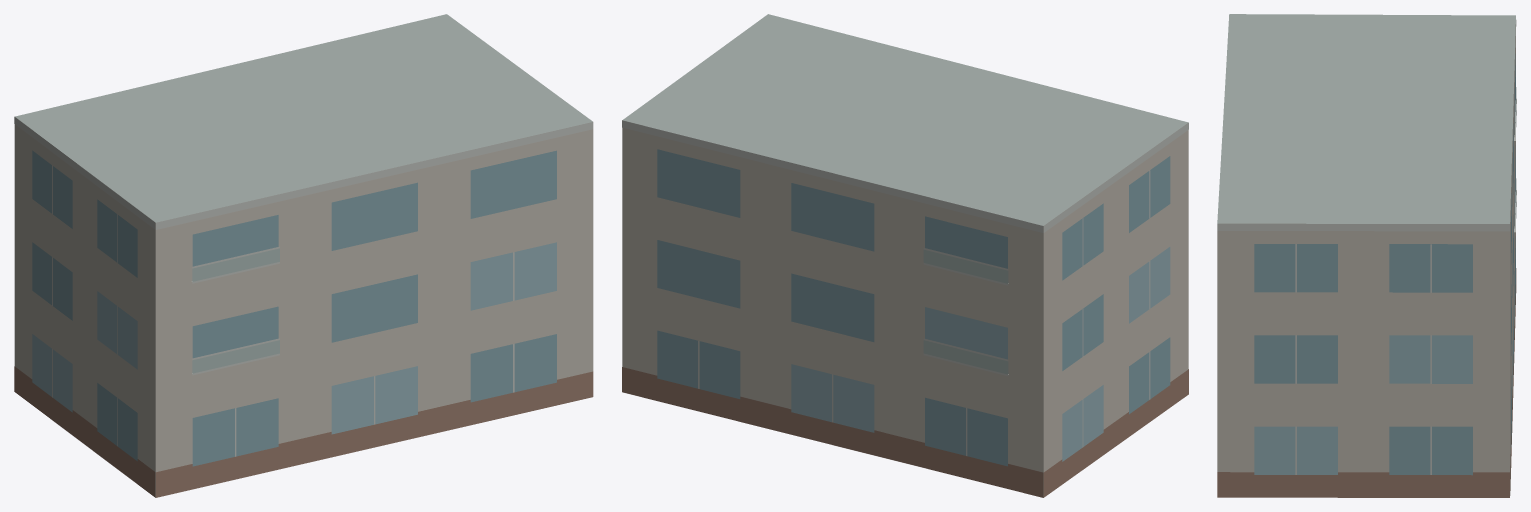
File: survey-upis-32970642.glb
3 renders of one model, left to right at view 1: azimuth 30°, elevation 25°; view 2: azimuth 150°, elevation 25°; view 3: azimuth 270°, elevation 25°, orthographic.
Visible parts, largest first — view 1: survey-upis-32970642.tmp; view 2: survey-upis-32970642.tmp; view 3: survey-upis-32970642.tmp.
Boxes of the visible parts, x1,y1,x2,y2 form: survey-upis-32970642.tmp: (14,14,593,497); survey-upis-32970642.tmp: (622,14,1188,497); survey-upis-32970642.tmp: (1217,14,1516,497).
Size of the model in its own units: 15.05 by 9.15 by 9.08.
